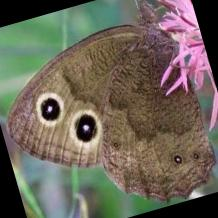butterfly: (6, 2, 217, 204)
